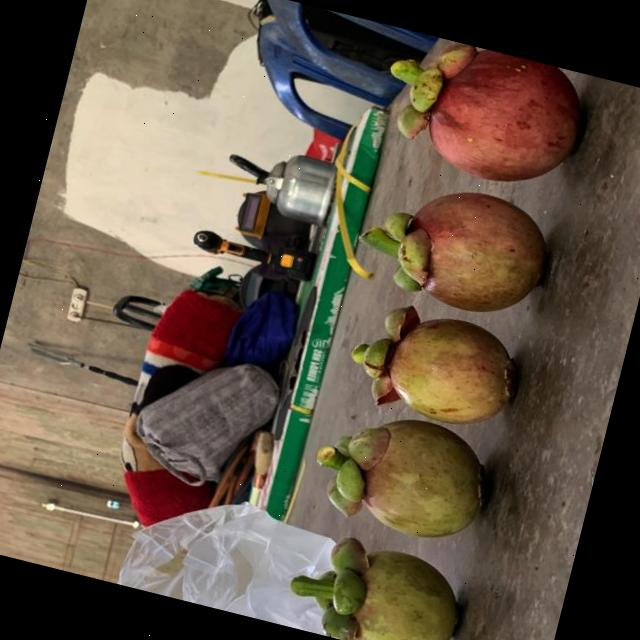mangosteen: (290, 378, 531, 592), (358, 23, 620, 205), (346, 157, 572, 350), (342, 284, 536, 465), (273, 505, 489, 640)
